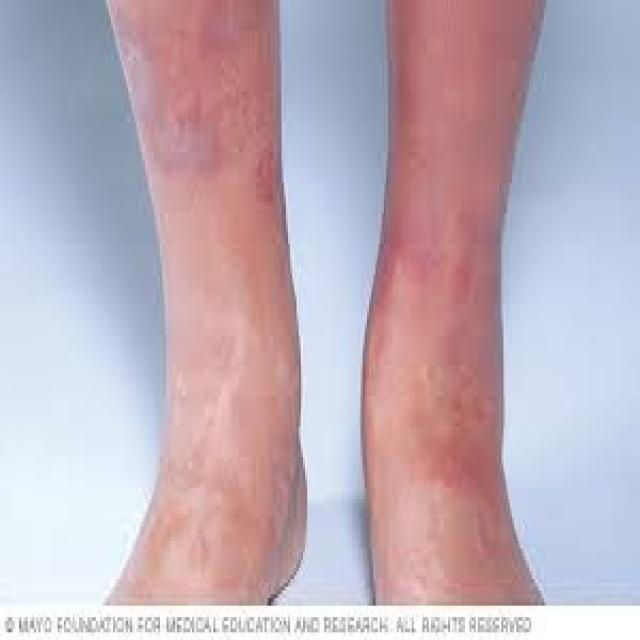Eczema: (387, 0, 508, 498), (113, 0, 295, 216)
